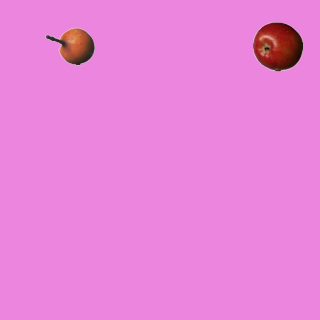Apple Braeburn: (252, 21, 302, 71)
Granadilla: (44, 21, 94, 71)
